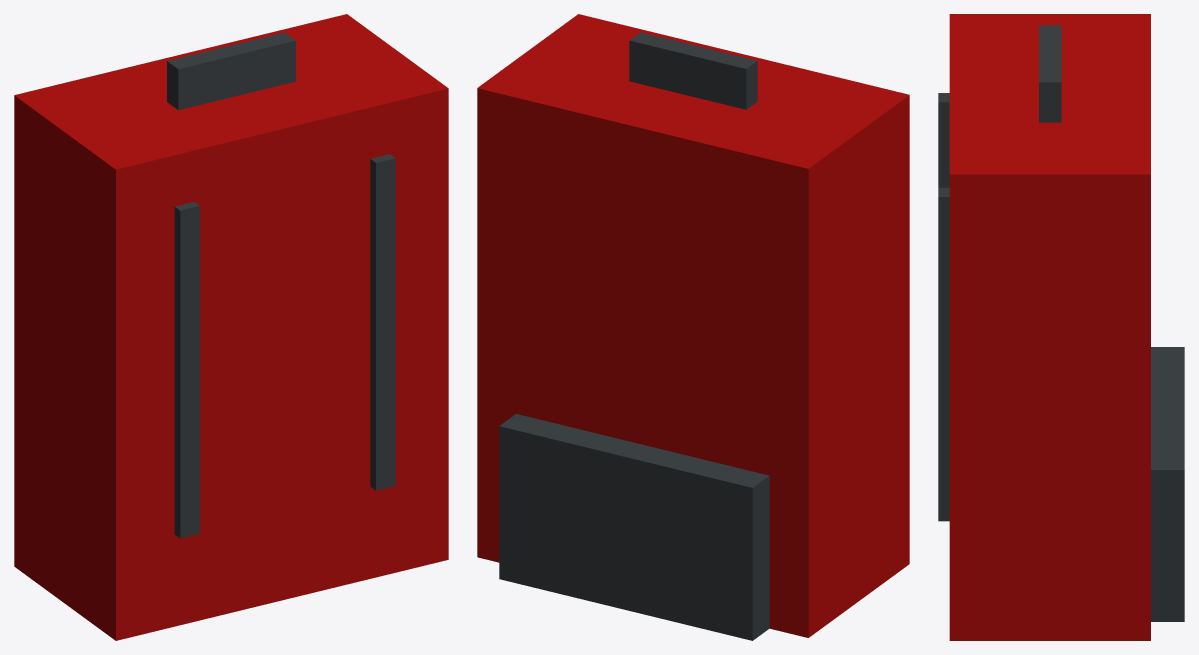
Rendered from school_backpack.glb.
3 renders of one model, left to right at view 1: azimuth 30°, elevation 25°; view 2: azimuth 150°, elevation 25°; view 3: azimuth 270°, elevation 25°, orthographic.
Parts seen in each view (by area): view 1: school_backpack:bag; view 2: school_backpack:bag; view 3: school_backpack:bag.
Part boxes in pixels (x1=…): school_backpack:bag: x1=14, y1=14, x2=448, y2=640; school_backpack:bag: x1=477, y1=14, x2=909, y2=640; school_backpack:bag: x1=938, y1=14, x2=1184, y2=640.
Size of the model in its own units: 0.34 by 0.5 by 0.22.
